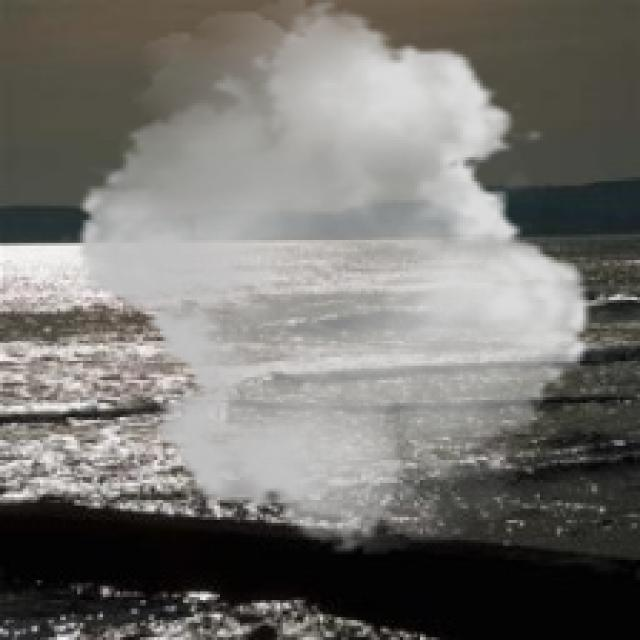smoke: (57, 0, 612, 555)
